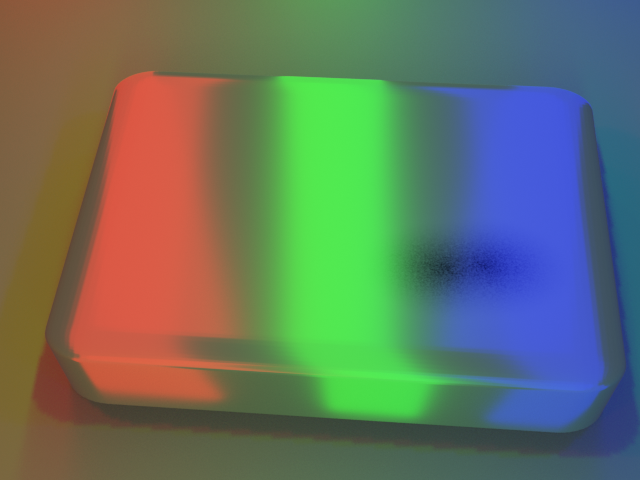stain: (360, 197, 615, 345)
